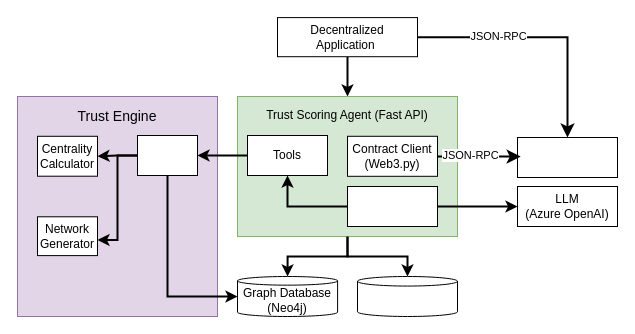
Some shapes in this 635 by 334 pixel diagram are drawn without their labels. Here are the shapes that lost their labels. From the top down, the centre of each, then its label:
At (167,155): "Server (Fast API)".
At (567,157): "Blockchain (GoQuorum)".
At (392,206): "LLM Client (LangGraph)".
At (407,296): "Document Database".
